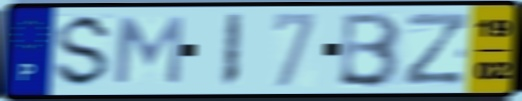7: (269, 11, 322, 90)
B: (335, 10, 404, 90)
I: (218, 11, 245, 90)
M: (110, 15, 187, 87)
S: (50, 12, 117, 91)
Z: (401, 11, 472, 89)
